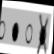correct: (10, 20, 19, 43)
not correct: (35, 11, 50, 54)
